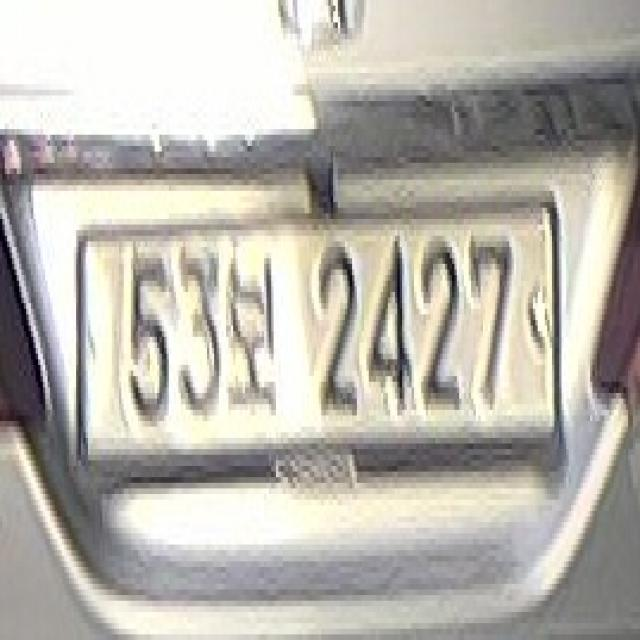2: (304, 236, 366, 438), (409, 225, 466, 421)
3: (164, 236, 228, 427)
4: (357, 230, 416, 432)
5: (128, 247, 174, 427)
7: (464, 242, 516, 404)
bo: (224, 247, 278, 421)
license_plate: (69, 197, 576, 477)
